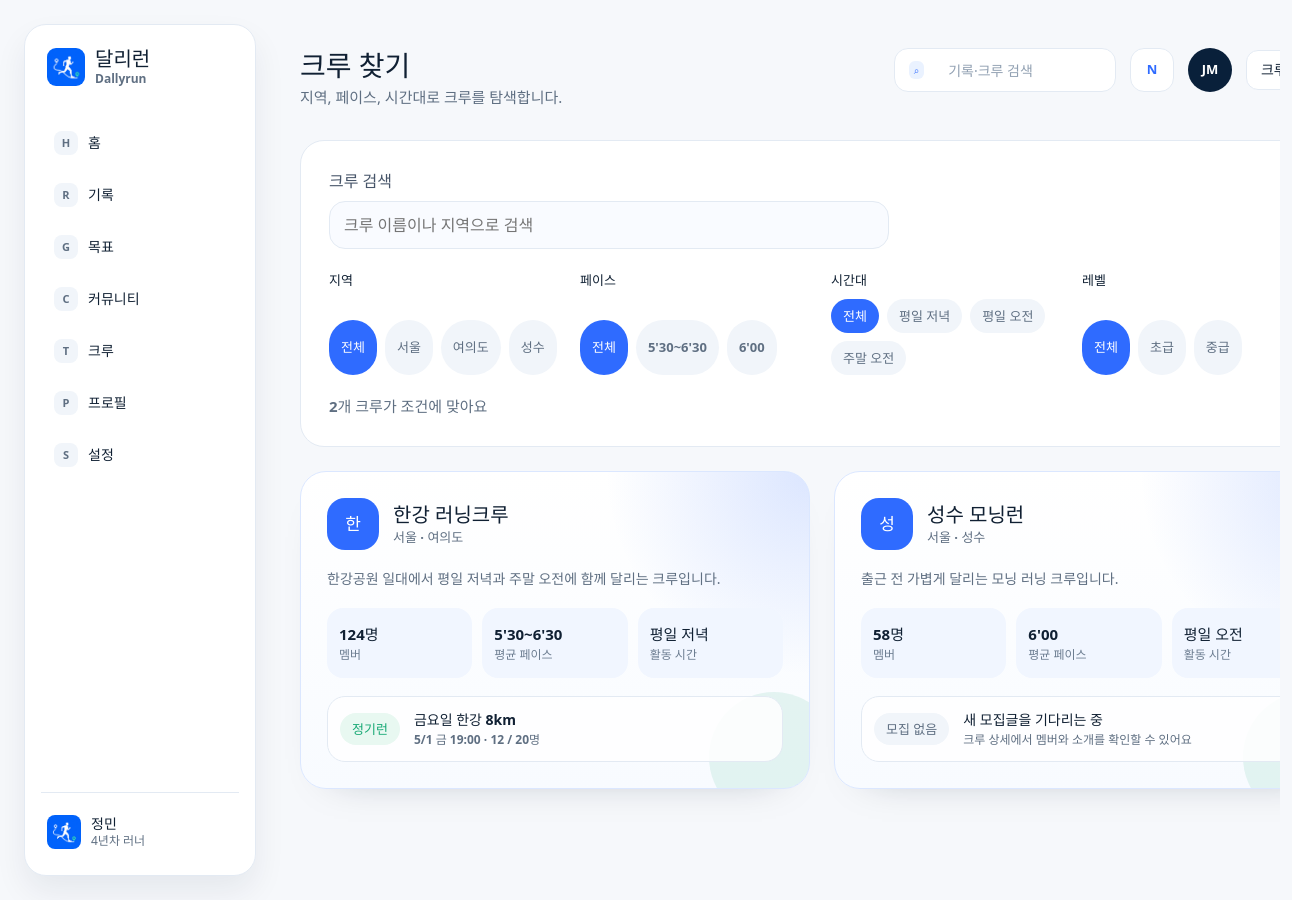
Test case: Web design pages › 크루 찾기에서 검색과 필터를 조합해 결과를 바꾼다
Expected: the text "2개 크루가 조건에 맞아요" is shown, [329,396,487,416]
Type "성수" into the field labelled "크루 검색" at (609, 225), box [329,201,889,249]
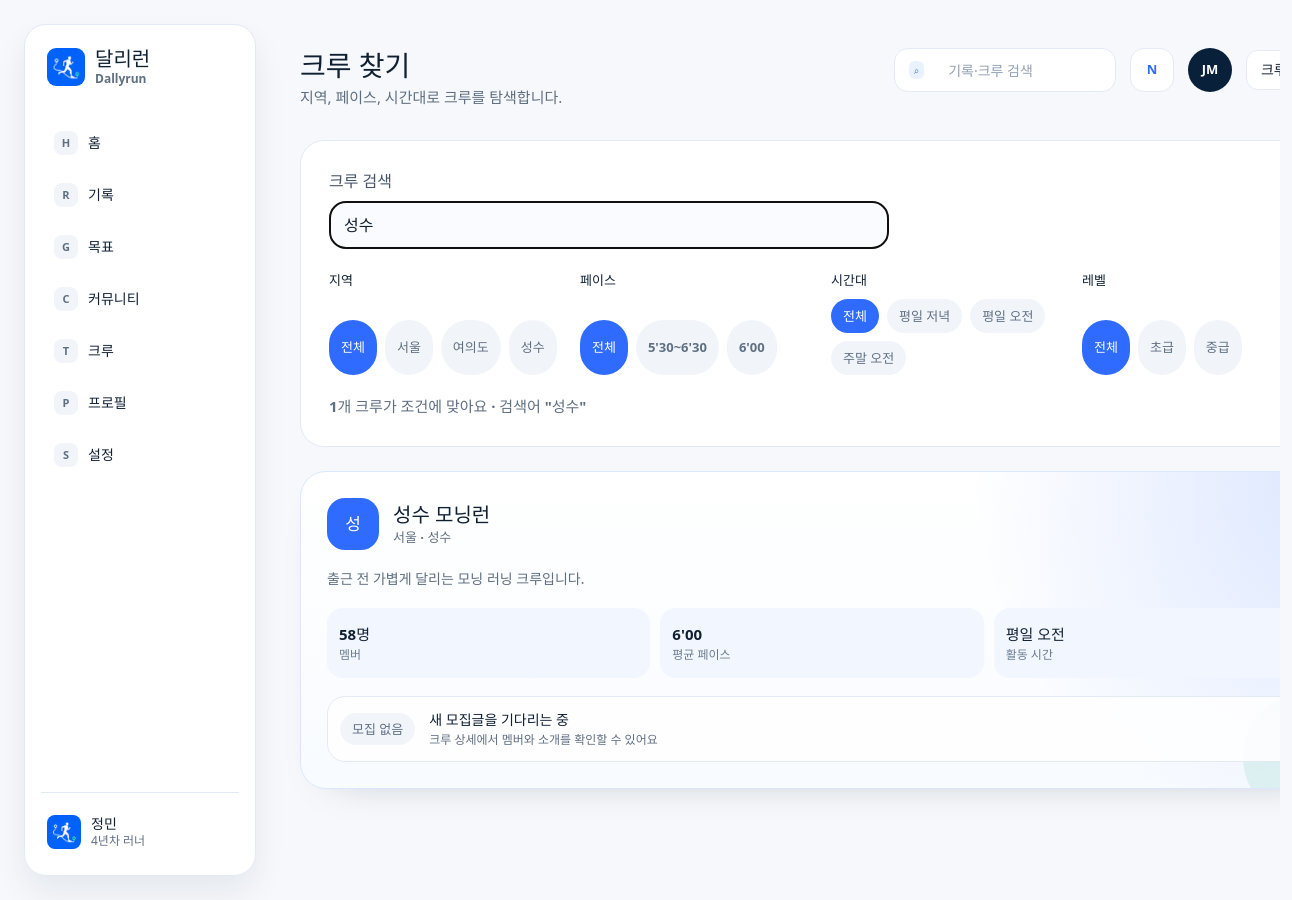
Expected: the link "한강 러닝크루" is gone
Clear the field labelled "크루 검색" at (609, 225), box [329,201,889,249]
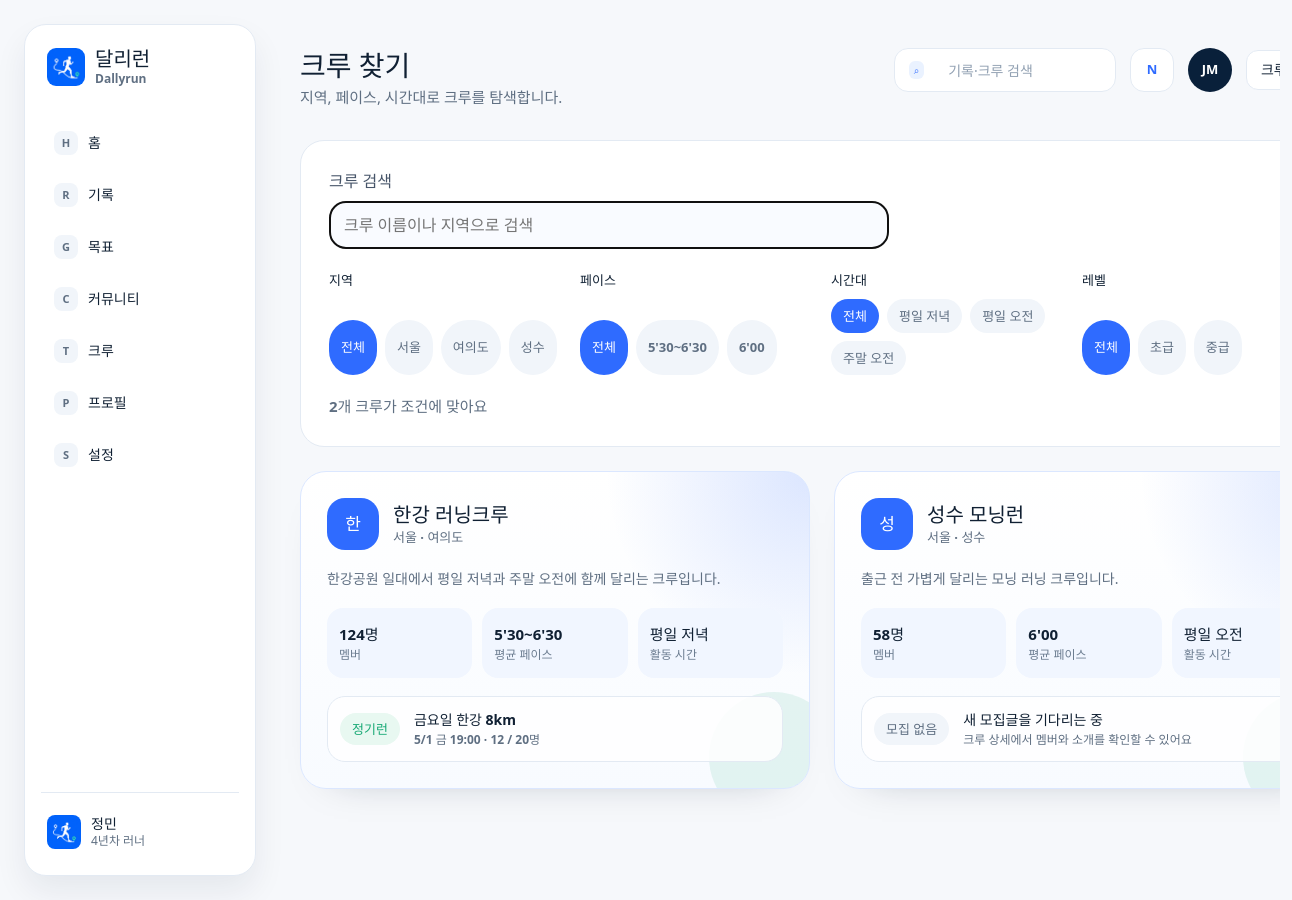
Click the button "6'00" at (752, 348), box [727,320,777,375]
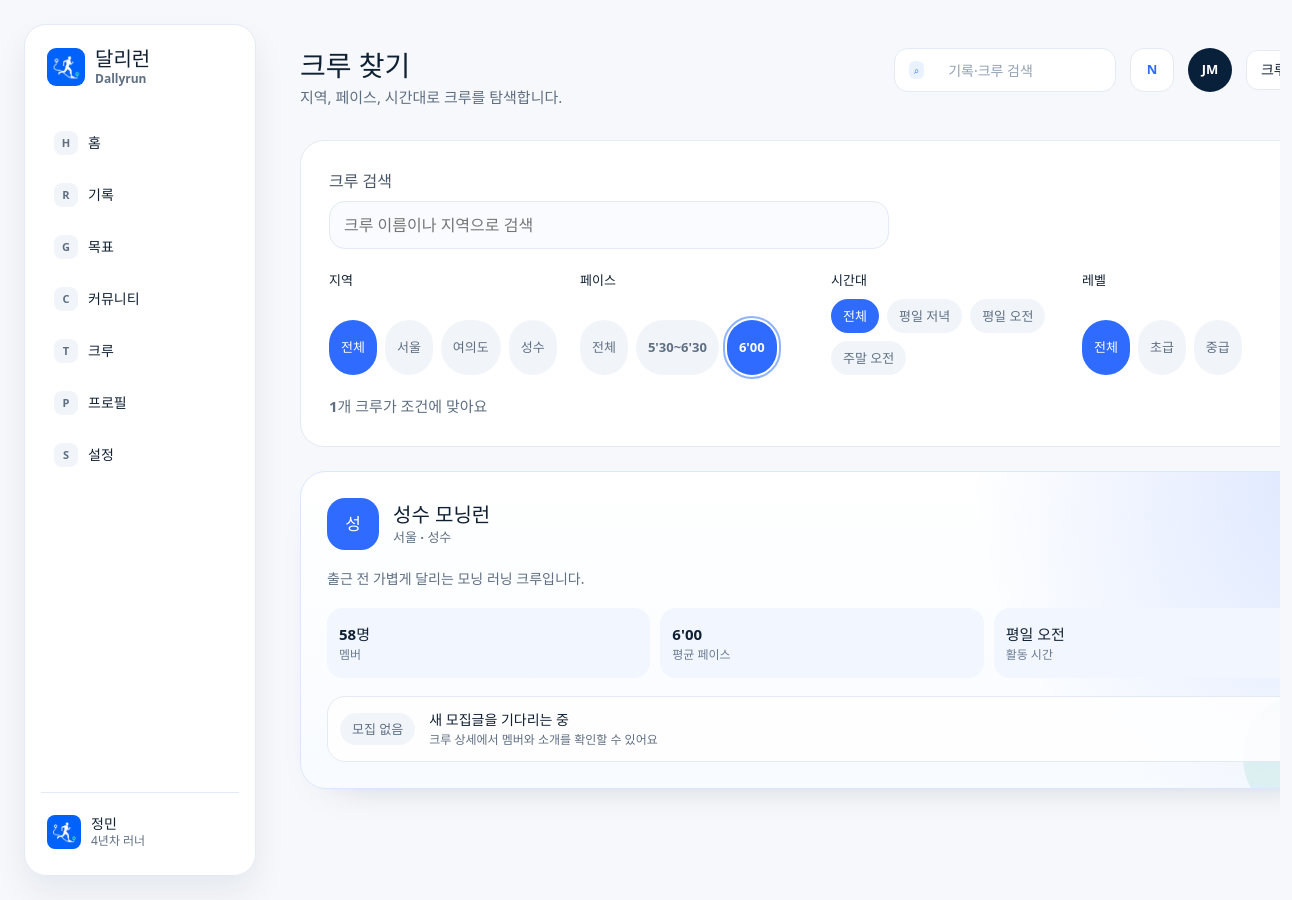
Click the button "주말 오전" at (869, 358), box [831,341,906,375]
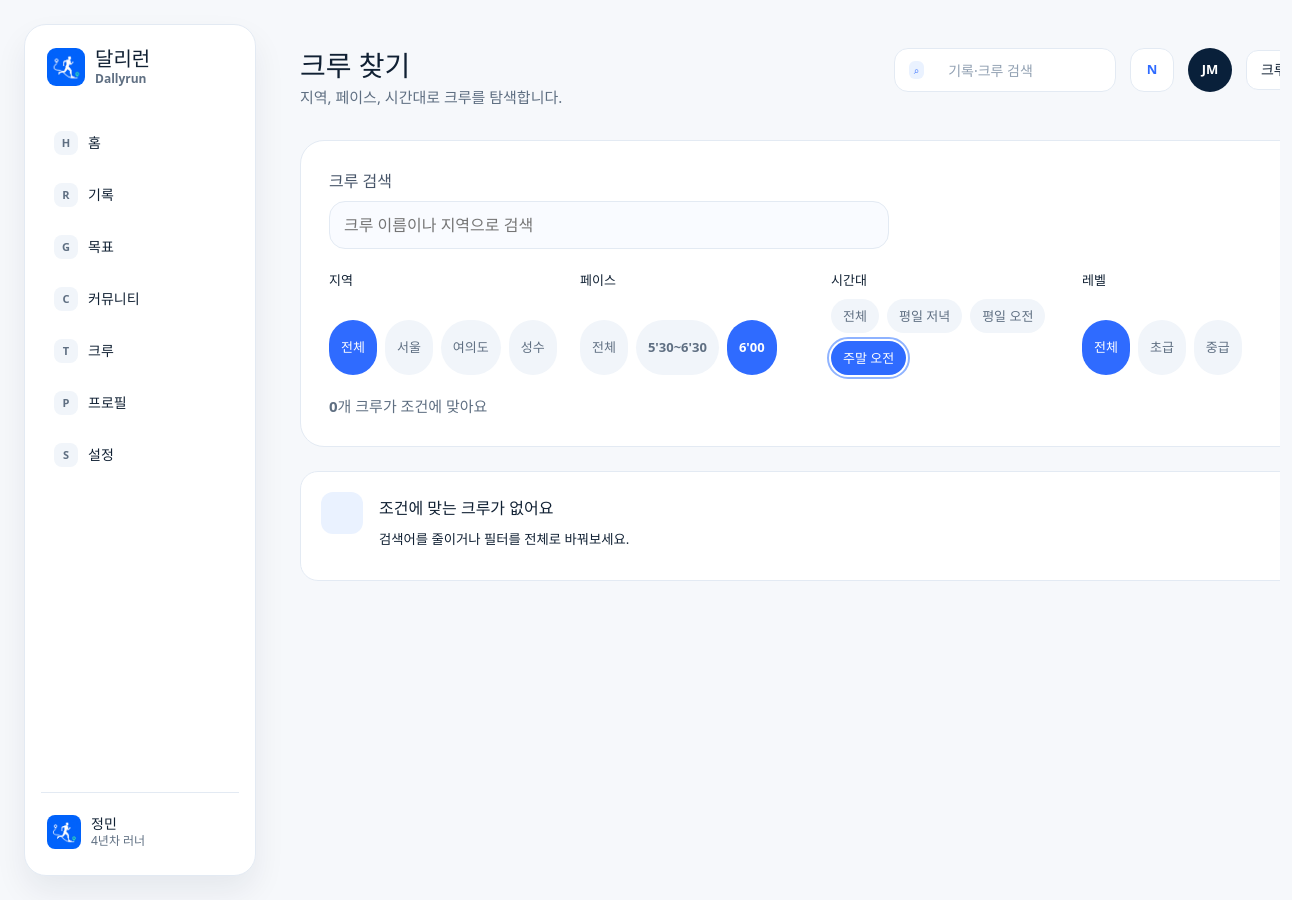
Expected: the text "조건에 맞는 크루가 없어요" is shown, [379,497,553,519]
